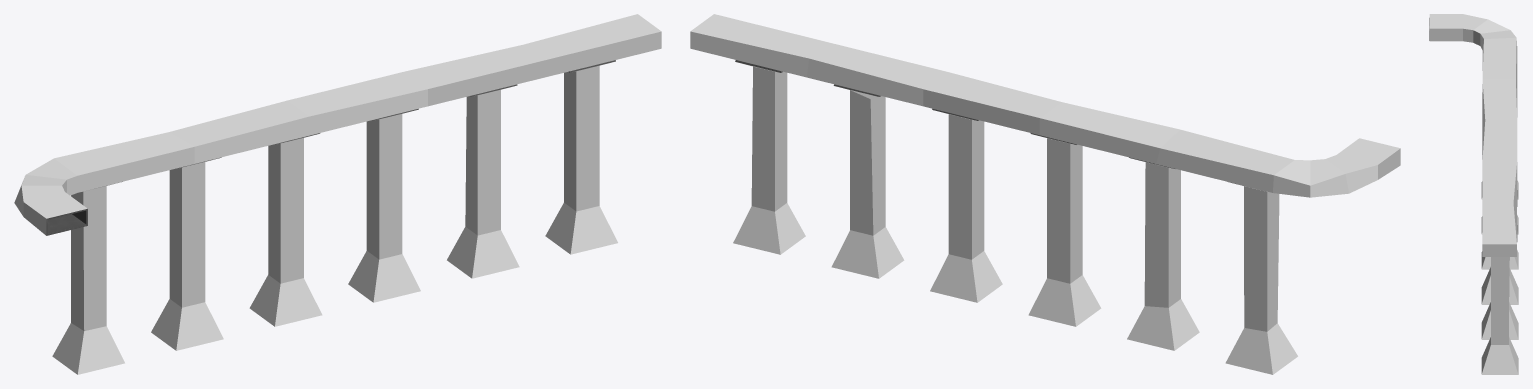
The model's file is UpstairsRailing.fbx.
The picture shows the model from 3 angles, left to right: view 1: azimuth 30°, elevation 25°; view 2: azimuth 150°, elevation 25°; view 3: azimuth 270°, elevation 25°; orthographic projection. The views are drawn at different scales.
Visible parts, largest first — view 1: UpstairsRailing, UpstairsRailingCurve; view 2: UpstairsRailing, UpstairsRailingCurve; view 3: UpstairsRailingCurve, UpstairsRailing.
Boxes of the visible parts, x1,y1,x2,y2 form: UpstairsRailing: [52, 60, 617, 374]; UpstairsRailingCurve: [14, 14, 661, 235]; UpstairsRailing: [733, 60, 1297, 374]; UpstairsRailingCurve: [690, 14, 1400, 197]; UpstairsRailingCurve: [1429, 14, 1517, 256]; UpstairsRailing: [1481, 180, 1518, 374].
Size of the model in its own units: 652 by 192 by 106.
3 materials, 2 textured.
